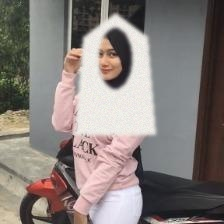Mukena: (75, 13, 155, 134)
